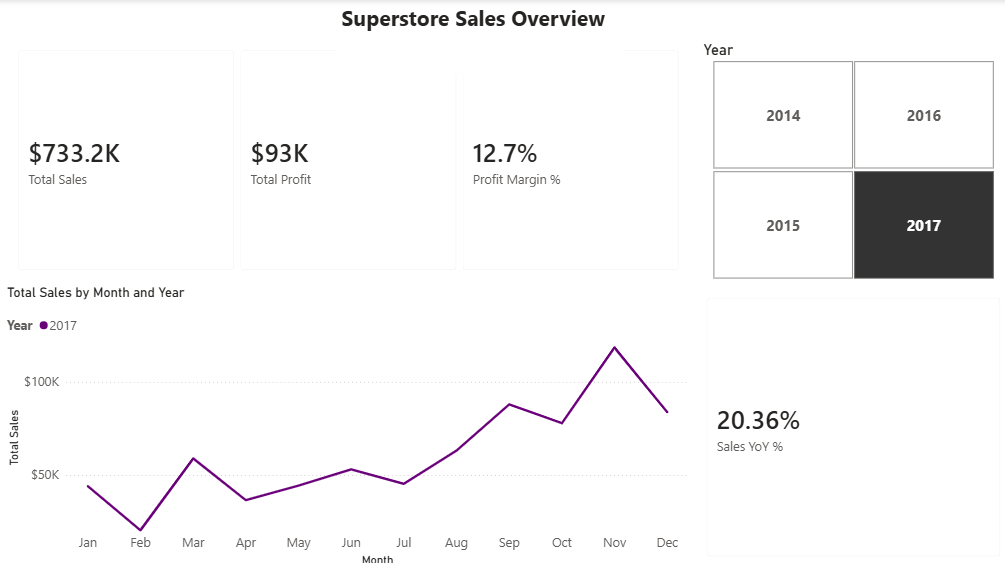

This screenshot's page, from the dashboard's own definition file:
{"tool":"powerbi","page":{"name":"Overview","canvas":[1280,720],"ordinal":0},"visuals":[{"type":"cardVisual","fields":{"Data":["orders.Total Sales","orders.Total Profit","orders.Profit Margin %"]},"box":[9.4,47.2,867.4,311.8],"z":0},{"type":"slicer","fields":{"Values":["Date.Year"]},"box":[876.9,47.2,402.5,311.8],"z":1000},{"type":"lineChart","fields":{"Category":["Date.Month"],"Series":["Date.Year"],"Y":["orders.Total Sales"]},"box":[8,360,868,360],"z":2000},{"type":"cardVisual","fields":{"Data":["orders.Sales YoY %"]},"box":[876,360,404,360],"z":3000},{"type":"textbox","box":[429,0,359.1,94.5],"z":3001}]}

Visuals, with their boxes in screenshot pixels (x1, y1, x2, y2), scaled from the page's 1280x720 canvas onto the 1005x565 screenshot:
cardVisual - orders.Total Sales x orders.Total Profit: bbox=(7, 37, 688, 282)
slicer - Date.Year: bbox=(689, 37, 1004, 282)
lineChart - Date.Month x Date.Year: bbox=(6, 282, 688, 564)
cardVisual - orders.Sales YoY %: bbox=(688, 282, 1004, 564)
textbox: bbox=(337, 0, 619, 74)
